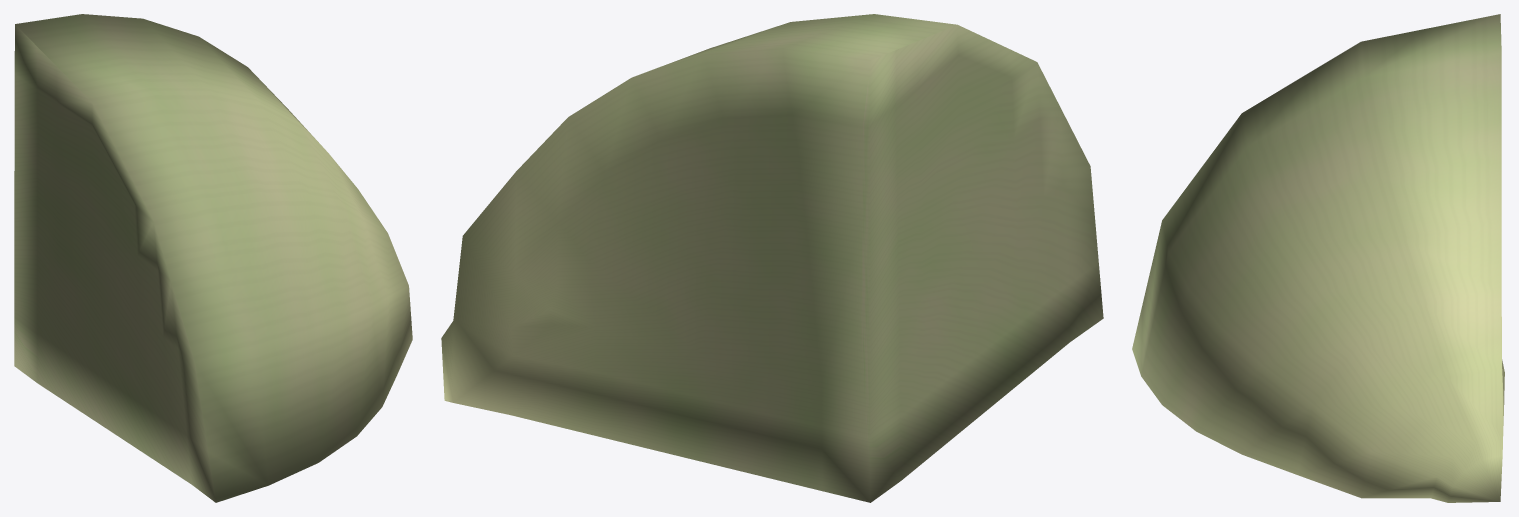
File: WhiteOnion_Eights.glb
The picture shows the model from 3 angles, left to right: view 1: azimuth 30°, elevation 25°; view 2: azimuth 150°, elevation 25°; view 3: azimuth 270°, elevation 25°; orthographic projection. The views are drawn at different scales.
Visible parts, largest first — view 1: Sphere; view 2: Sphere; view 3: Sphere.
Part boxes in pixels (x1,y1,x2,y2): Sphere: (14,14,412,502); Sphere: (441,14,1103,502); Sphere: (1132,14,1504,502).
Size of the model in its own units: 1.98 by 1.94 by 1.97.
1 material, 1 textured.
